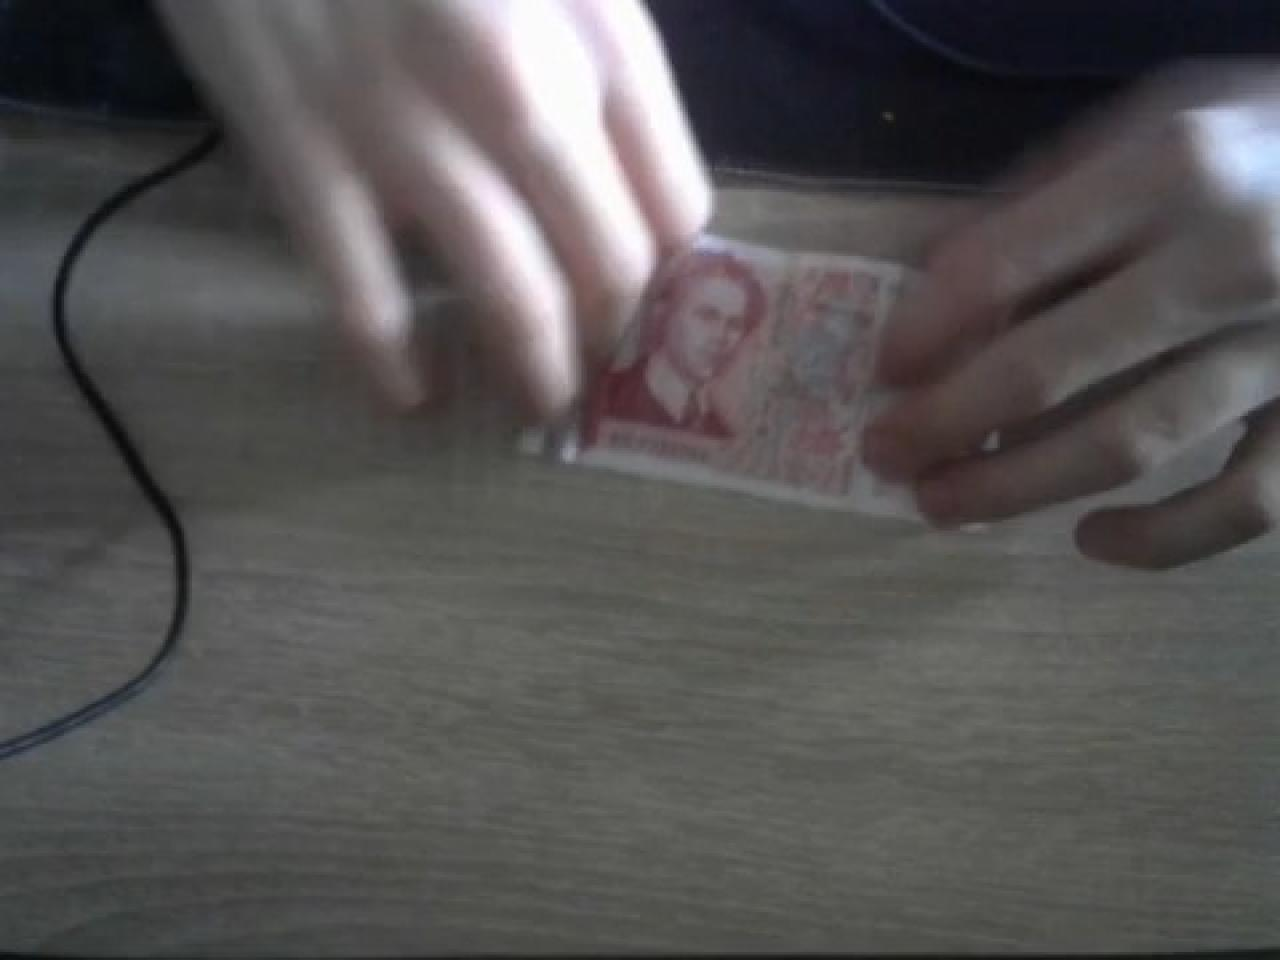5leva: (600, 237, 909, 504)
